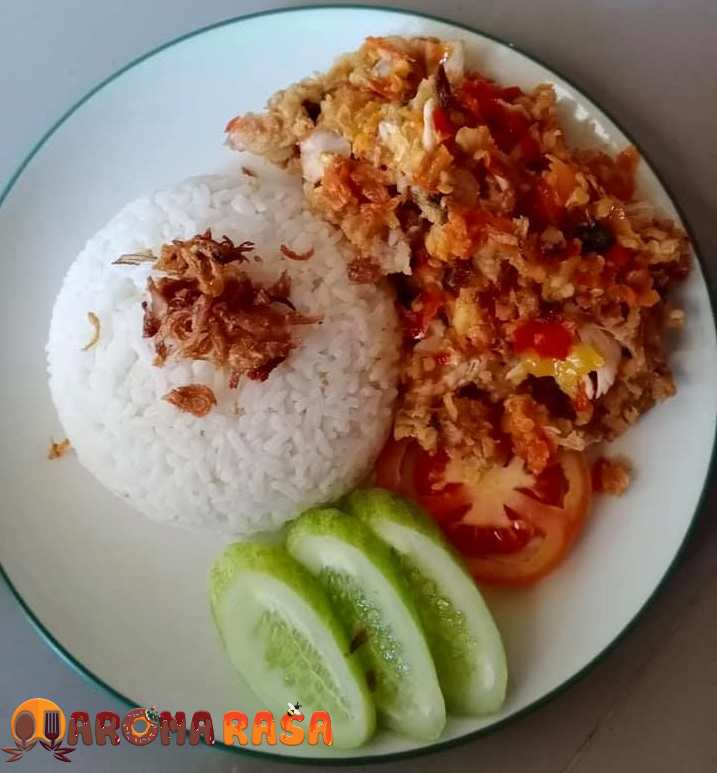ayam_geprek: (271, 15, 682, 555)
